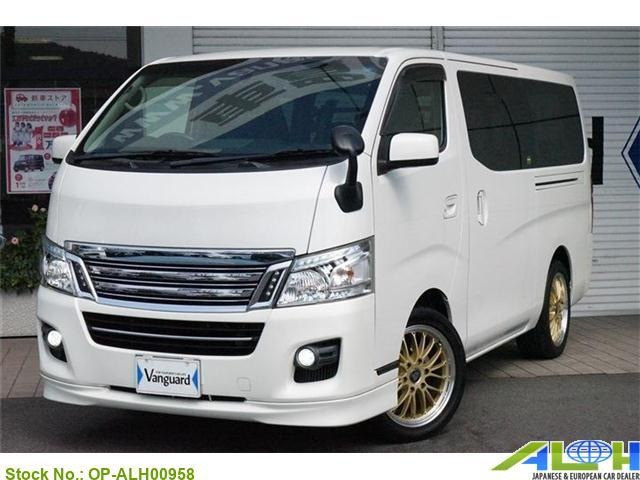Van: (35, 49, 593, 420)
